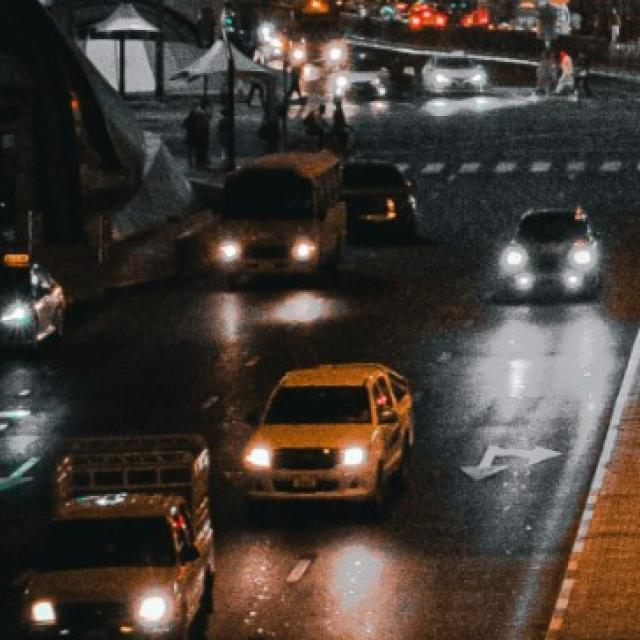bus: (216, 152, 348, 292)
car: (18, 436, 214, 640), (239, 361, 417, 515), (497, 208, 605, 303), (0, 256, 65, 354), (418, 51, 486, 94)
